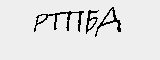Б: (84, 6, 101, 34)
Д: (93, 6, 127, 38)
П: (64, 7, 84, 34)
Р: (31, 11, 49, 34)
Т: (47, 10, 63, 31)
